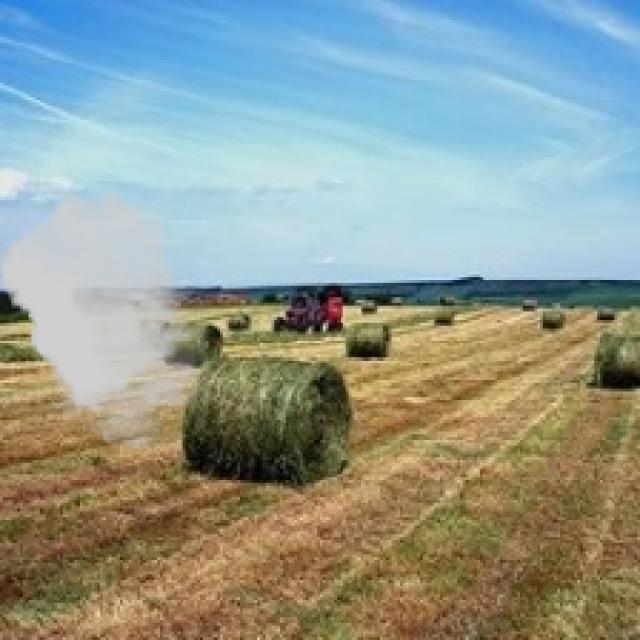Smoke: (0, 188, 209, 448)
